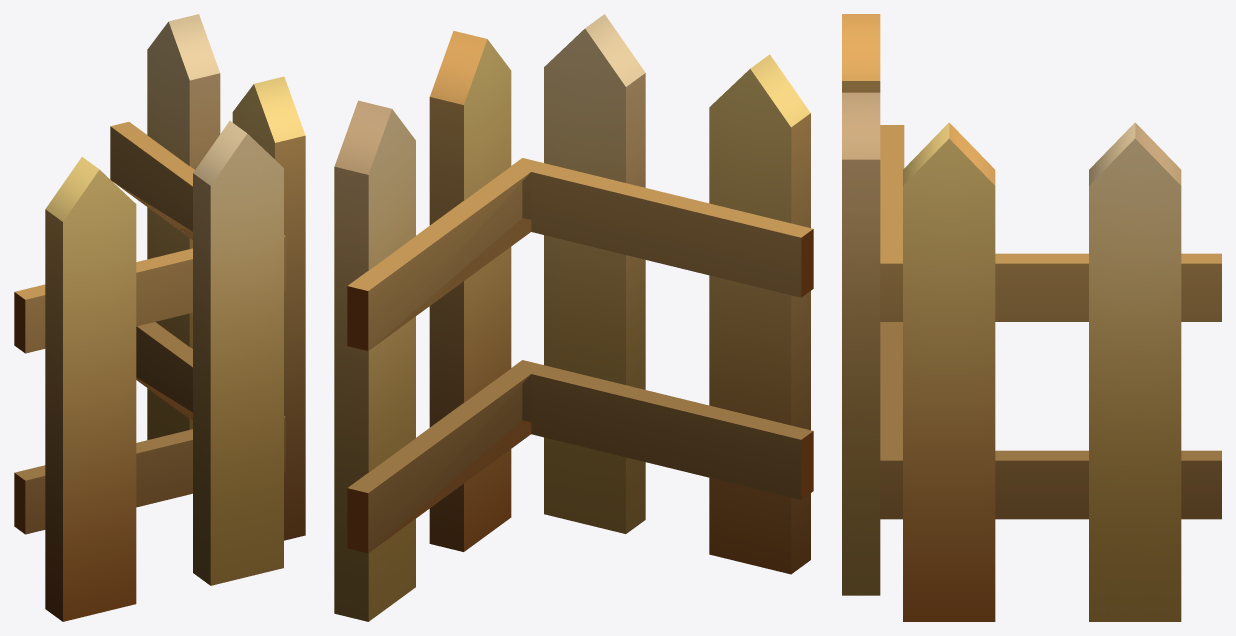
Rendered from Fence_01_Corner.fbx.
3 views of the same model, side by side, from view 1: azimuth 30°, elevation 25°; view 2: azimuth 150°, elevation 25°; view 3: azimuth 270°, elevation 25° (orthographic). The views are drawn at different scales.
Parts seen in each view (by area): view 1: Fence_01_Corner; view 2: Fence_01_Corner; view 3: Fence_01_Corner.
Boxes of the visible parts, x1,y1,x2,y2 form: Fence_01_Corner: [14, 14, 305, 621]; Fence_01_Corner: [334, 14, 813, 621]; Fence_01_Corner: [842, 14, 1221, 621].
Size of the model in its own units: 69.15 by 101 by 71.83.
Materials: 1 (1 with a texture image).
